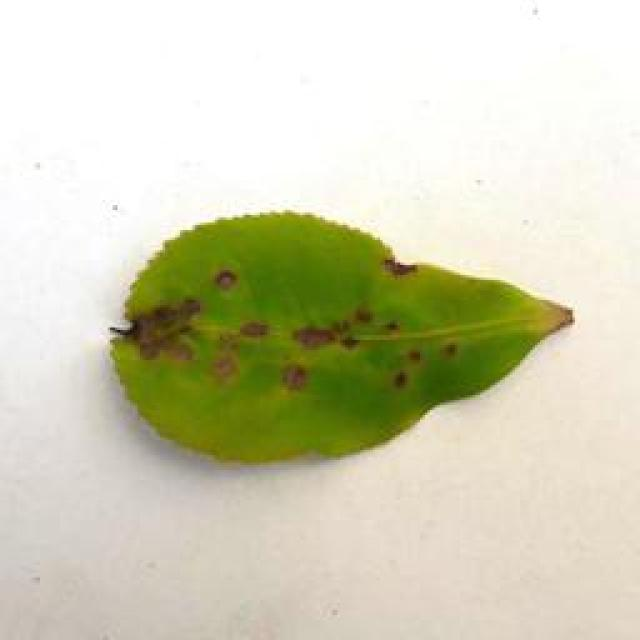Helopeltis: (103, 201, 583, 474)
